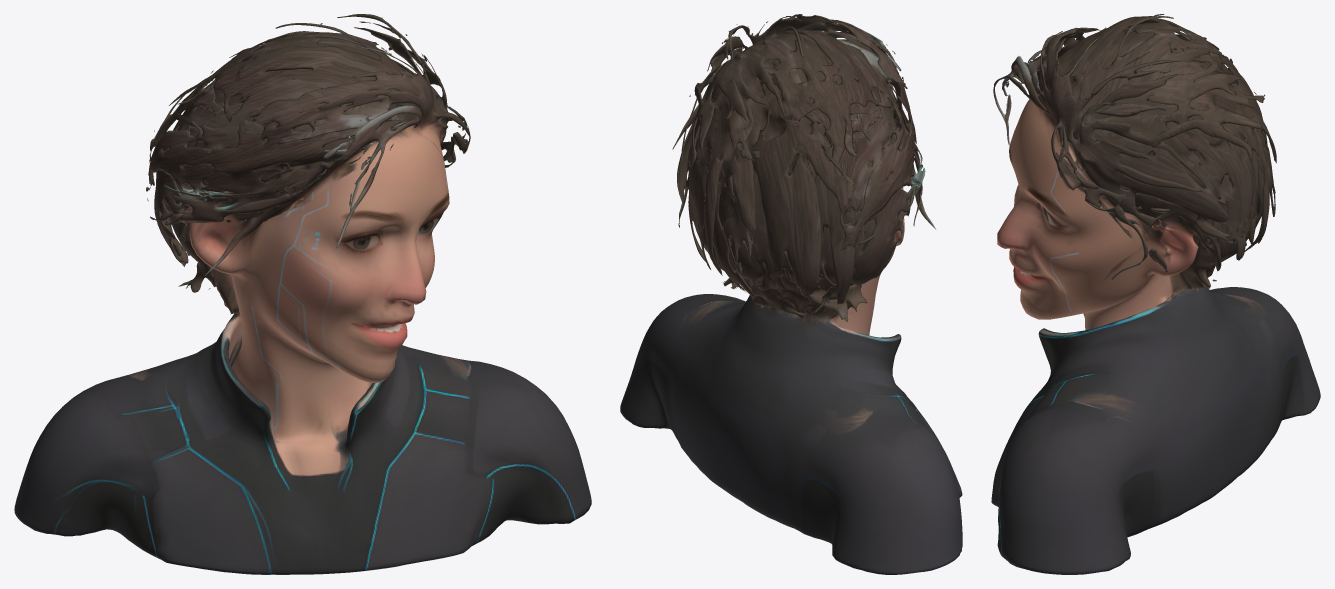
Rendered from tripo_convert_7f6fd40b-faa2-491c-834a-bb6cad787989.fbx.
3 views of the same model, side by side, from view 1: azimuth 30°, elevation 25°; view 2: azimuth 150°, elevation 25°; view 3: azimuth 270°, elevation 25° (orthographic). The views are drawn at different scales.
Visible parts, largest first — view 1: tripo_node_7f6fd40b; view 2: tripo_node_7f6fd40b; view 3: tripo_node_7f6fd40b.
Part boxes in pixels (bbox=[...]): tripo_node_7f6fd40b: bbox=[14, 14, 591, 574]; tripo_node_7f6fd40b: bbox=[620, 14, 962, 574]; tripo_node_7f6fd40b: bbox=[991, 14, 1320, 574].
Bounding box in the file's own units: 0.9817 × 0.9989 × 0.6551.
Materials: 1 (1 with a texture image).
